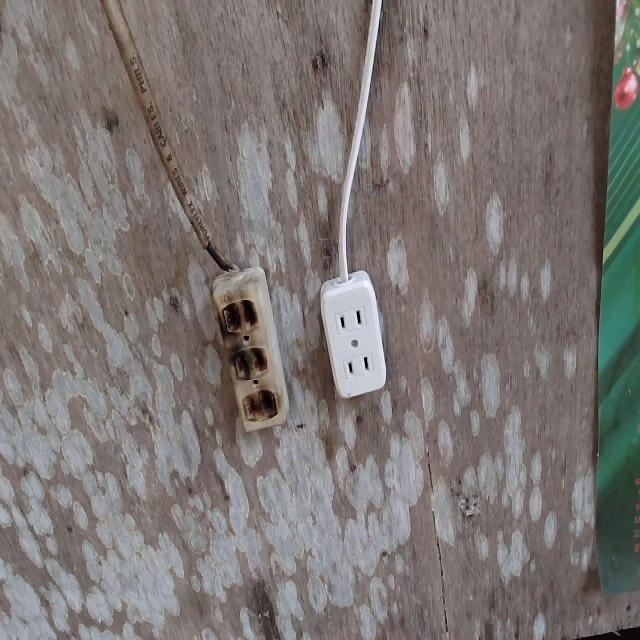-: (218, 292, 281, 421)
